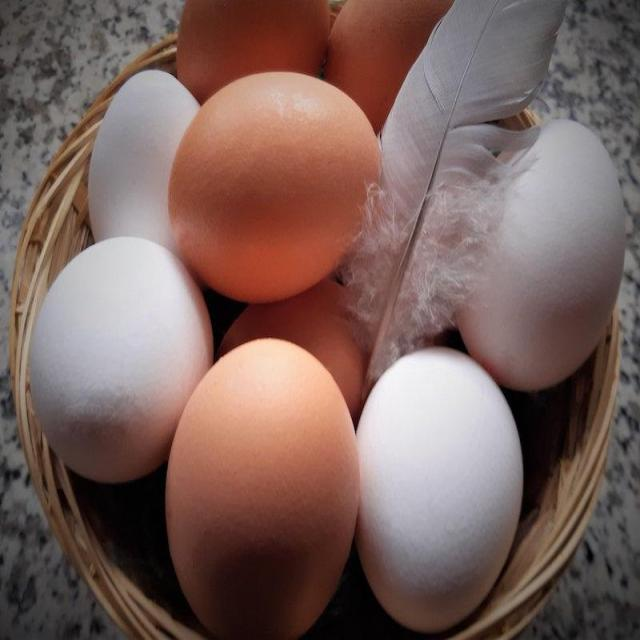Egg: (72, 102, 345, 598), (156, 331, 362, 640), (168, 66, 377, 294), (367, 350, 531, 640), (21, 228, 200, 481), (83, 68, 213, 243)
